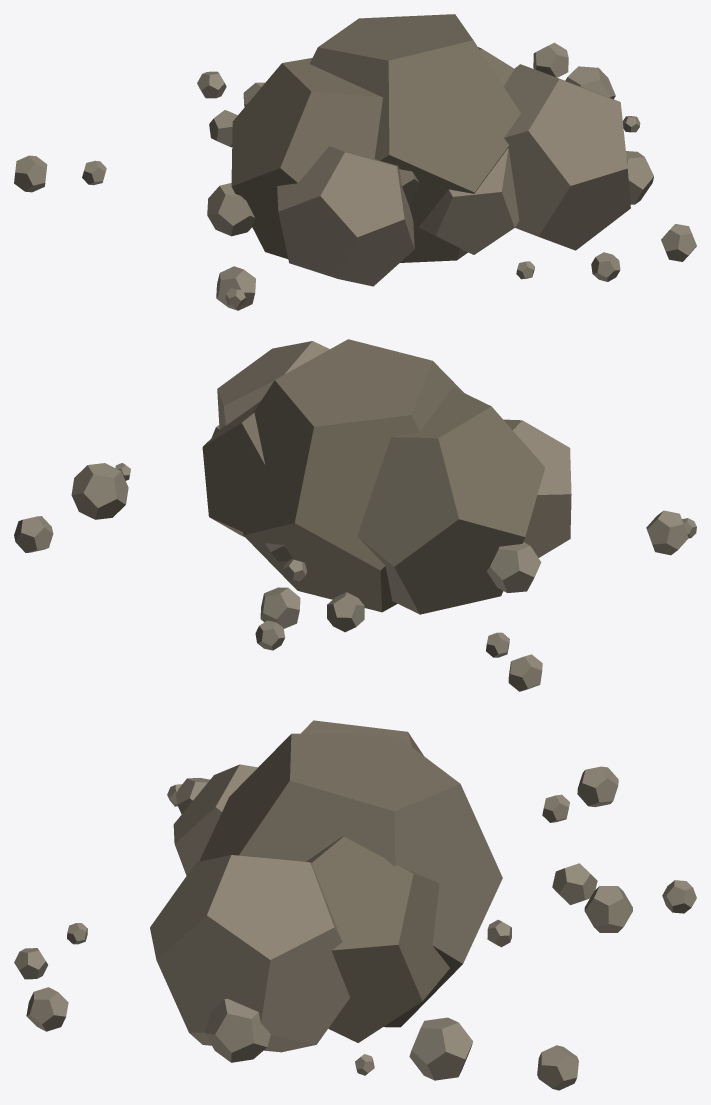
Rendered from rock_site.glb.
The picture shows the model from 3 angles, top to bottom: view 1: azimuth 30°, elevation 25°; view 2: azimuth 150°, elevation 25°; view 3: azimuth 270°, elevation 25°; orthographic projection. The views are drawn at different scales.
Size of the model in its own units: 15.89 by 6.06 by 15.24.
